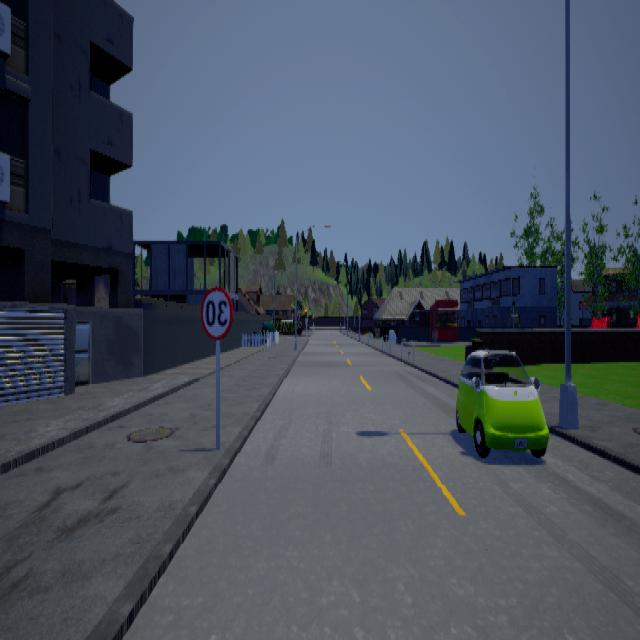traffic_sign: (202, 284, 234, 338)
vehicle: (457, 348, 550, 456)
